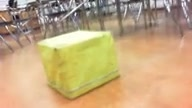cube: (37, 29, 120, 100)
